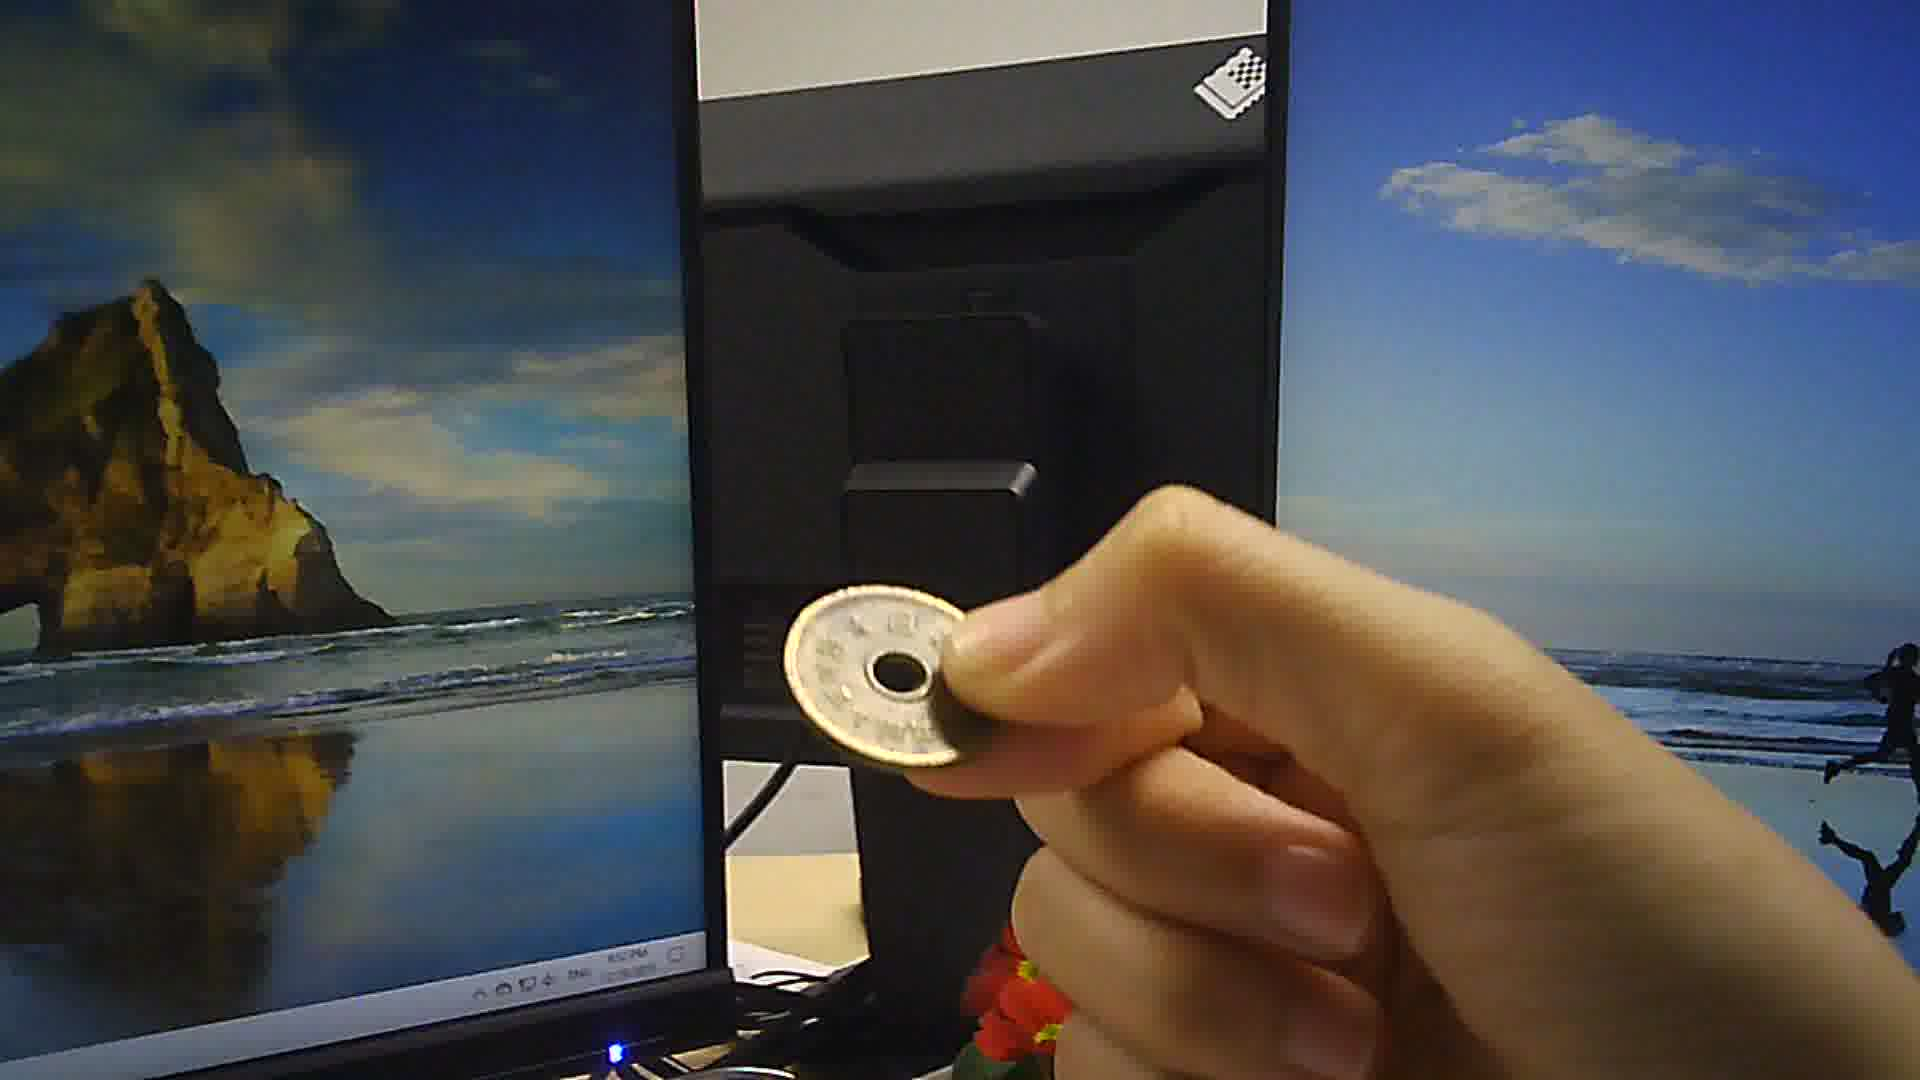5 Yen: (779, 585, 1021, 770)
